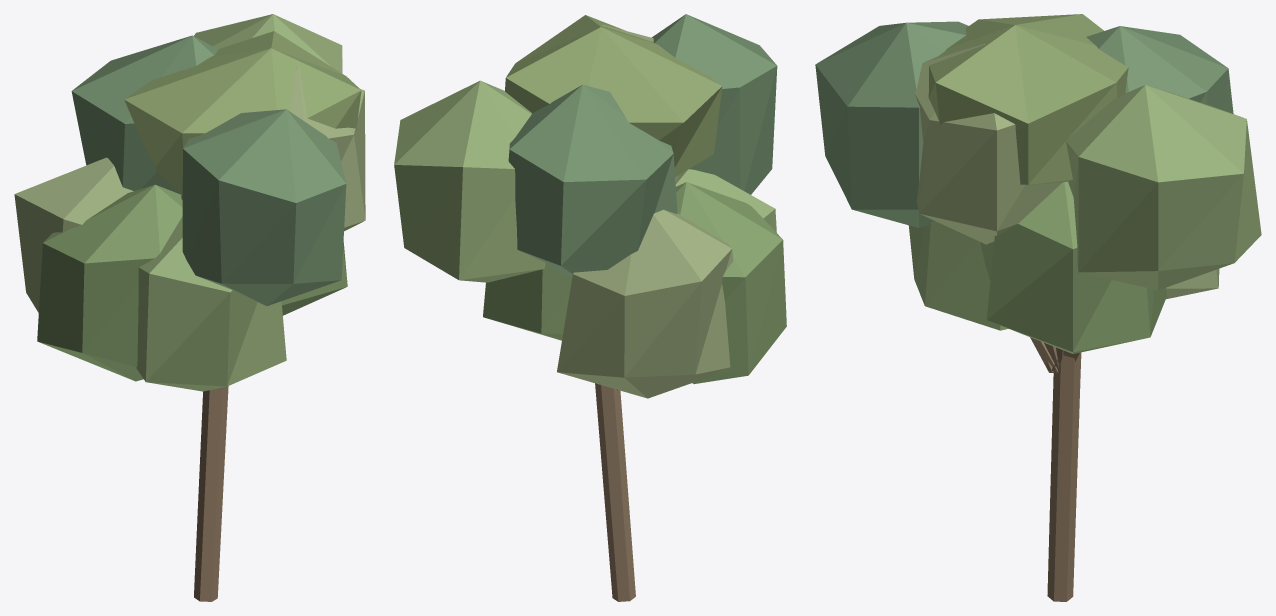
The picture shows the model from 3 angles, left to right: view 1: azimuth 30°, elevation 25°; view 2: azimuth 150°, elevation 25°; view 3: azimuth 270°, elevation 25°; orthographic projection. The views are drawn at different scales.
Size of the model in its own units: 3.18 by 5.11 by 3.47.
